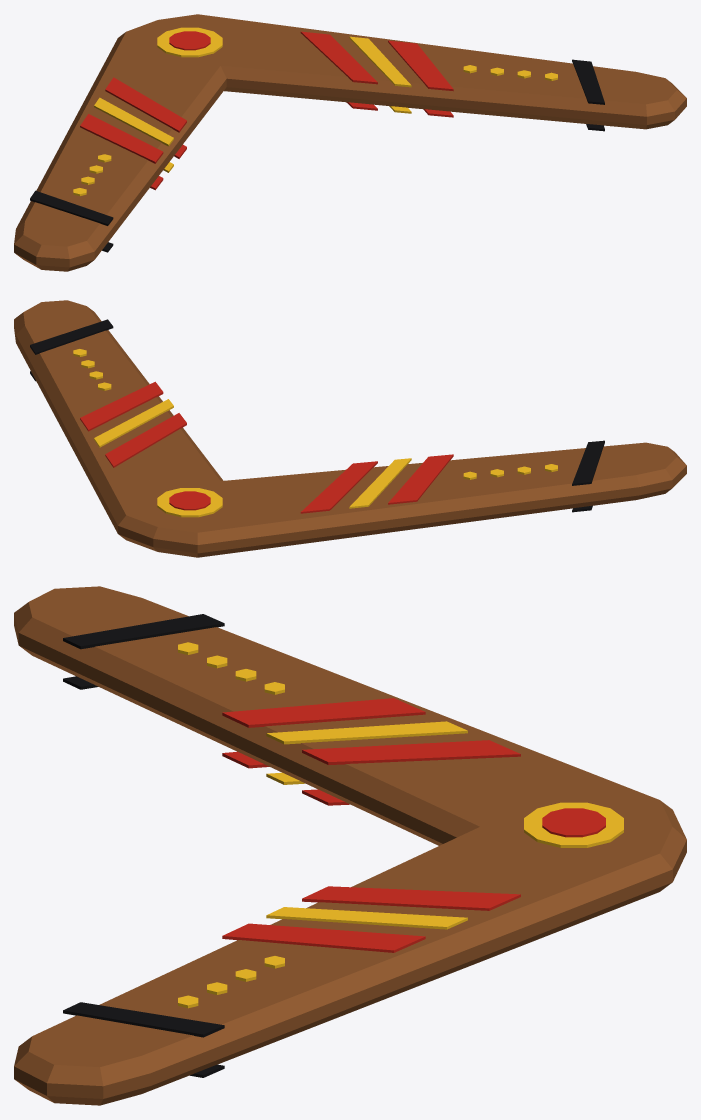
File: boomerang.glb
The picture shows the model from 3 angles, top to bottom: view 1: azimuth 30°, elevation 25°; view 2: azimuth 150°, elevation 25°; view 3: azimuth 270°, elevation 25°; orthographic projection. The views are drawn at different scales.
Parts seen in each view (by area): view 1: body; view 2: body; view 3: body.
Boxes of the visible parts, x1,y1,x2,y2 form: body: (14, 14, 686, 271); body: (14, 300, 686, 557); body: (14, 586, 686, 1105).
Size of the model in its own units: 0.496 by 0.0216 by 0.286.
